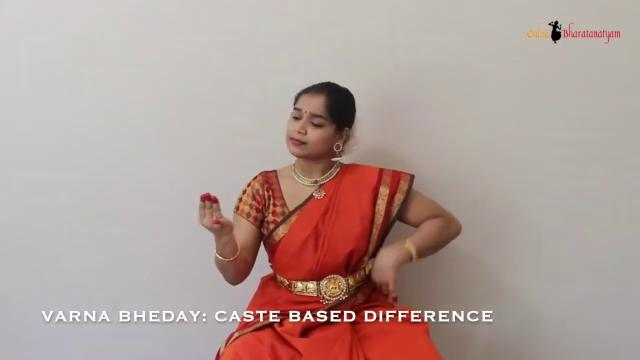chatur: (188, 184, 238, 240)
